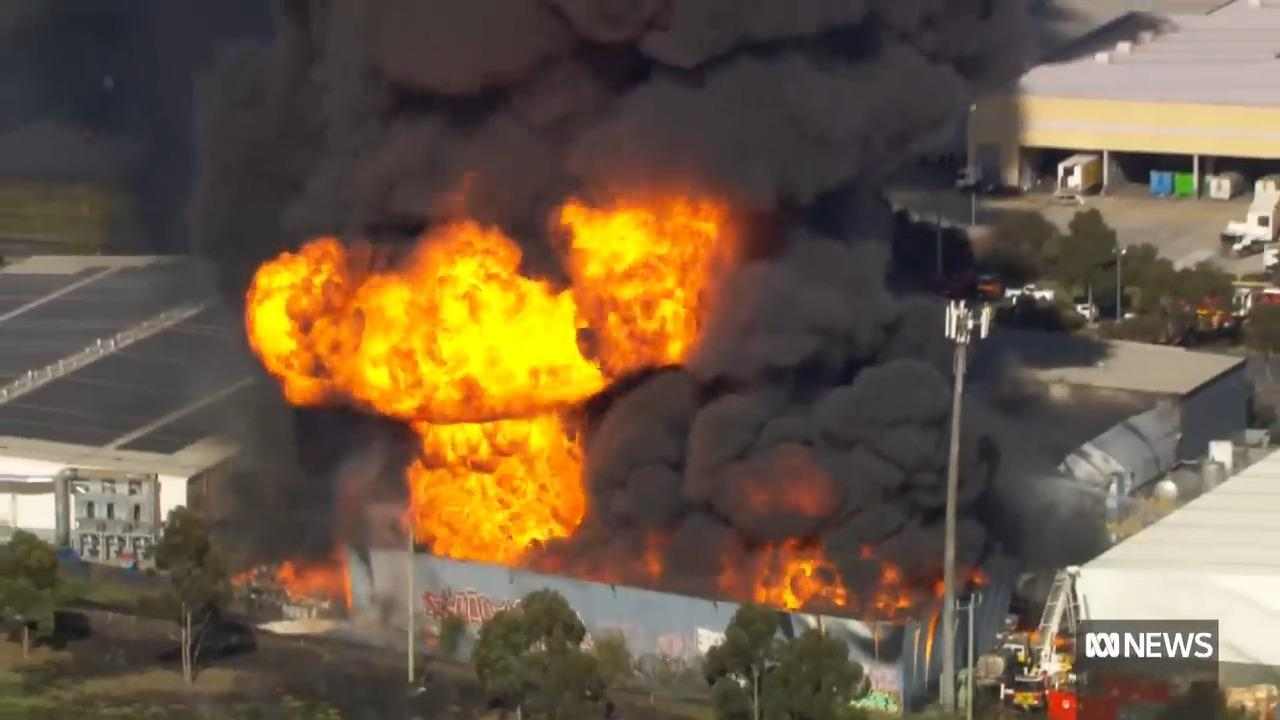fire: (187, 186, 829, 600)
